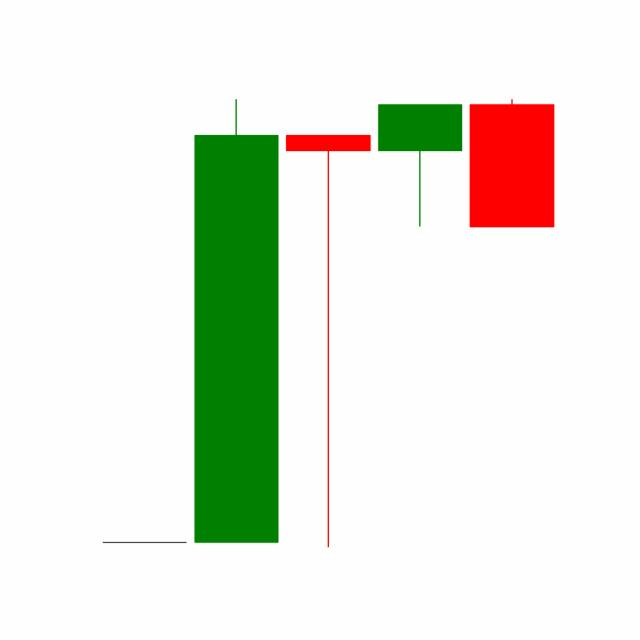Hanging Man: (373, 102, 467, 228)
